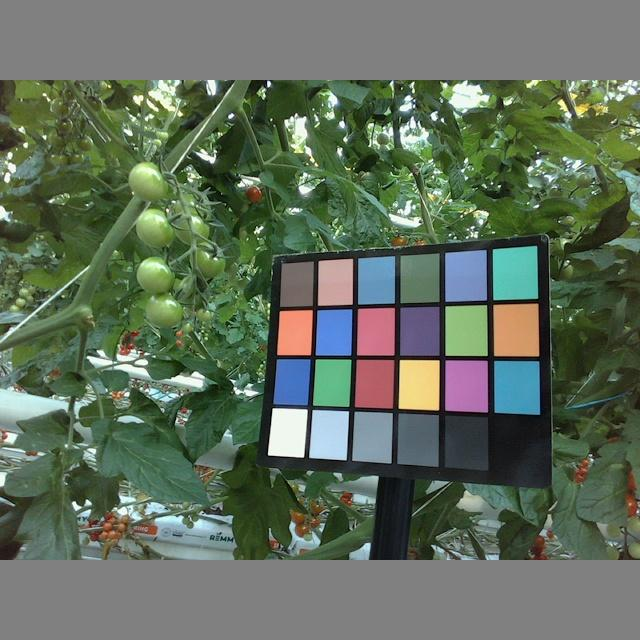green: (167, 188, 215, 243), (134, 206, 175, 247), (136, 255, 178, 295), (131, 161, 171, 202), (141, 293, 185, 326), (187, 242, 227, 278)
